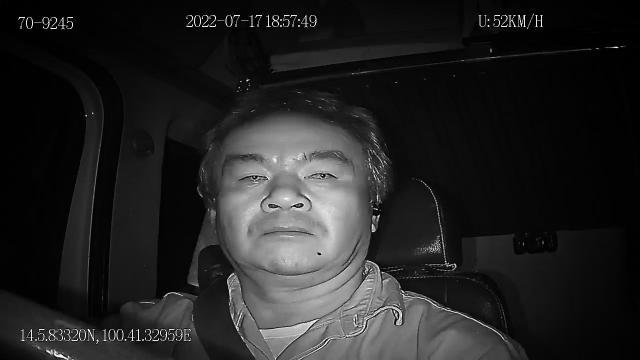SafeDriving: (228, 160, 276, 195), (300, 158, 345, 188)
Seatbelt: (191, 272, 257, 360)
